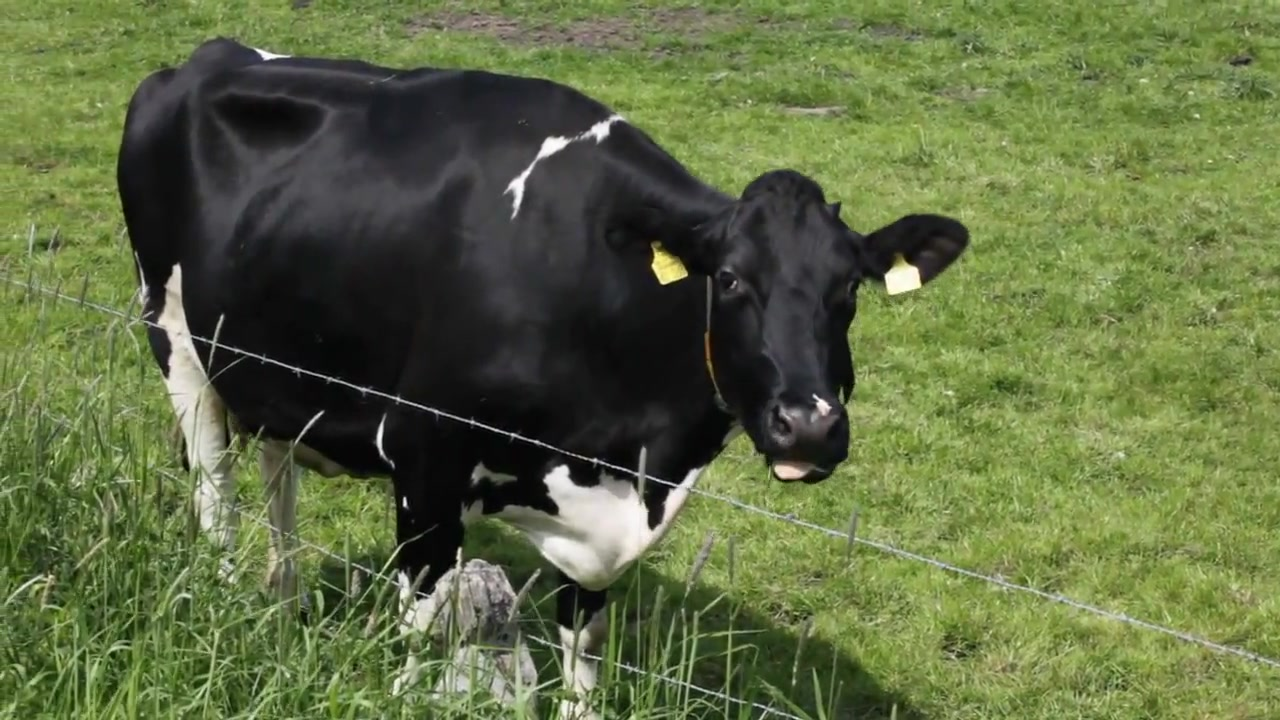cow: (115, 36, 973, 720)
